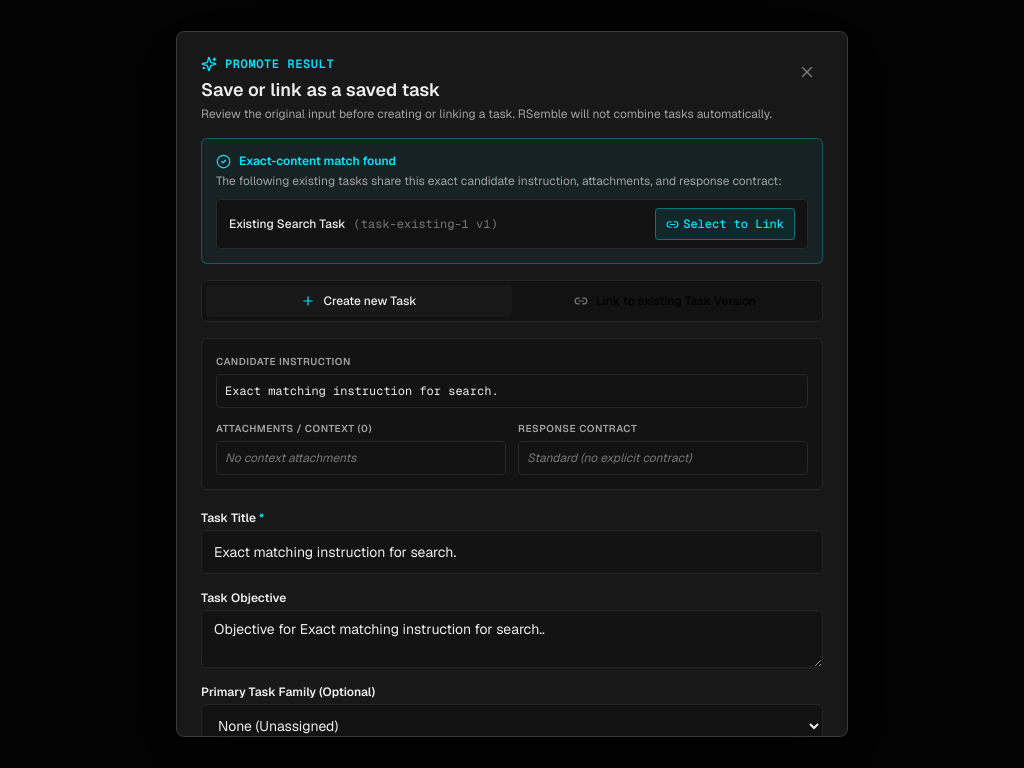
Scenario: PromoteComparisonTaskDialog › suggests exact-content matches as choices, but NEVER merges automatically (spec §7.3, §7.4)
The width and height of the screenshot is (1024, 768).
Expected: the element with test id "exact-match-suggestions" is shown, left=201, top=138, right=823, bottom=264
Expected: the element with test id "exact-match-suggestions" shows "Existing Search Task", left=229, top=216, right=346, bottom=232
Click the button with test id "select-exact-match-task-existing-1-1". click: point(725, 224)
box: left=655, top=208, right=795, bottom=240
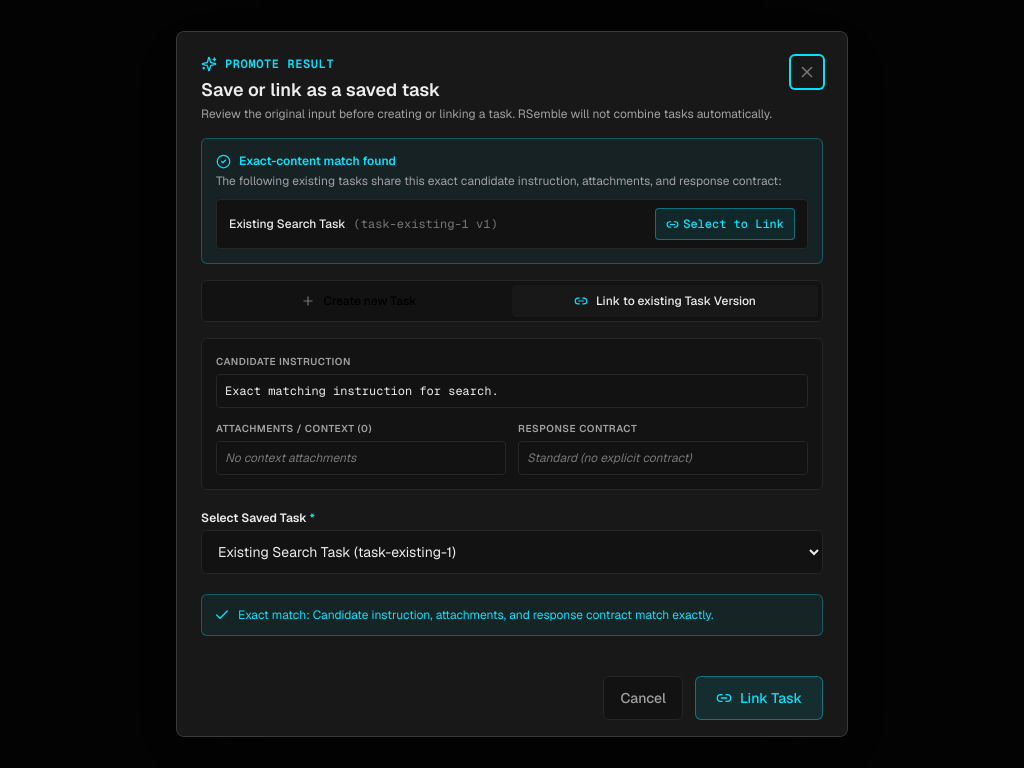
Now the radio button named "promotion-mode" is checked, box left=512, top=285, right=818, bottom=317
